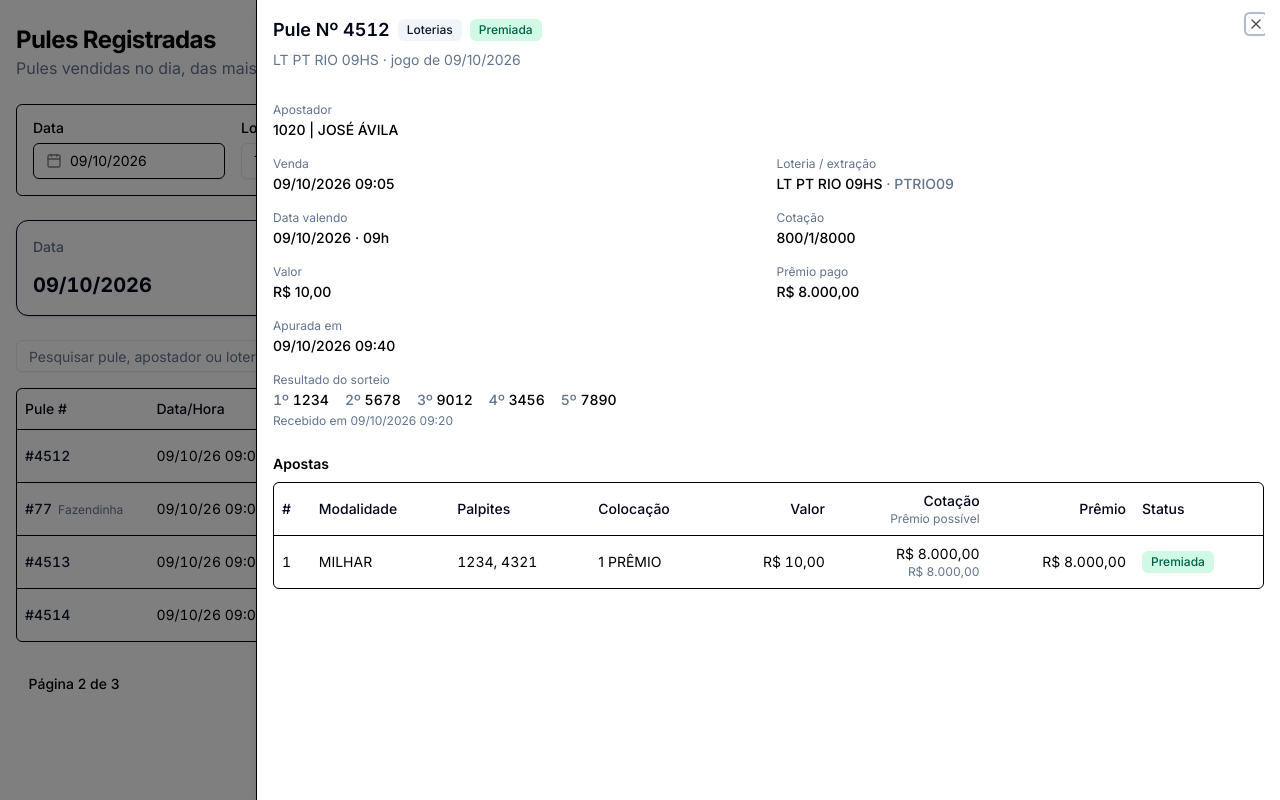
Scenario: Pules Registradas: detalhe › pule da URL: cabeçalho, dados, resultado e apostas; fechar volta para a lista
expect the heading "Pule Nº 4512 Loterias Premiada" is shown: met, box 273,19 -> 542,41
expect the list items read "1º 1234", "2º 5678", "3º 9012", "4º 3456", "5º 7890", in this order: met, box 273,390 -> 329,410; 345,390 -> 401,410; 417,390 -> 473,410; 489,390 -> 545,410; 561,390 -> 617,410
Click the button named "Fechar" at (1256, 24), box 1248,16 -> 1264,32
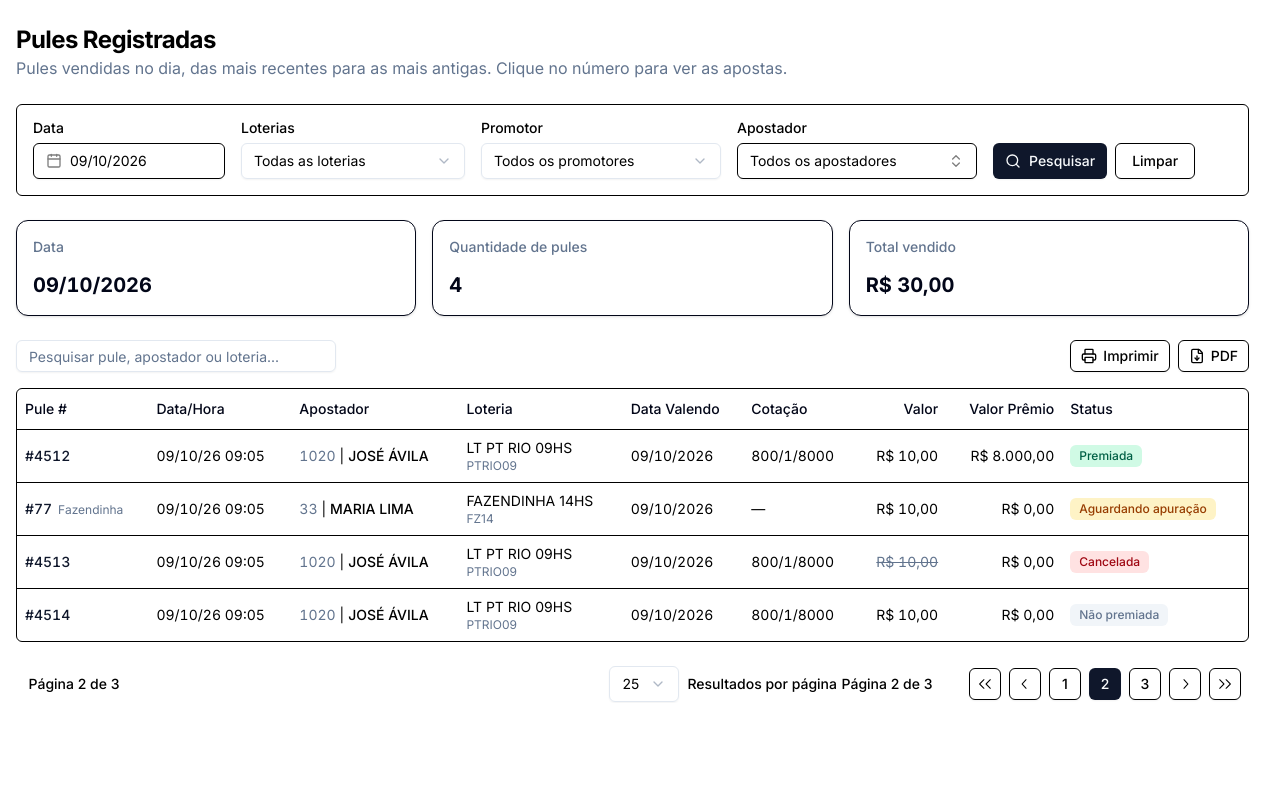
expect the dialog is gone: met
